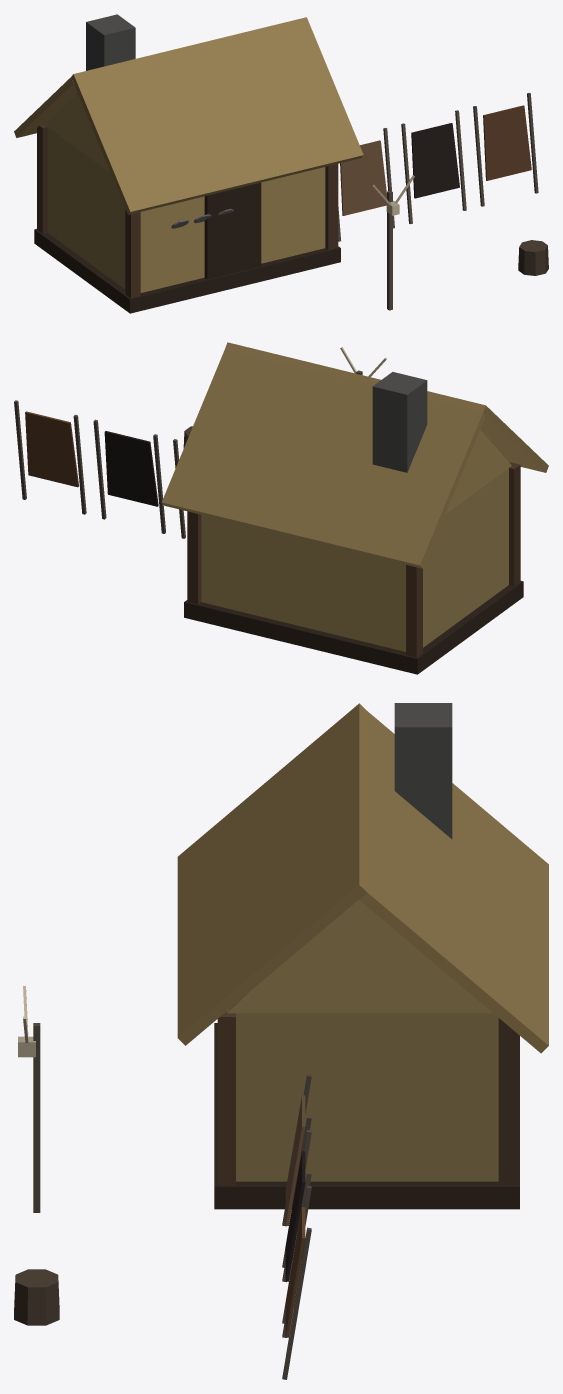
File: walk_tidebound_trapper.glb
3 renders of one model, top to bottom at view 1: azimuth 30°, elevation 25°; view 2: azimuth 150°, elevation 25°; view 3: azimuth 270°, elevation 25°, orthographic. The views are drawn at different scales.
Parts seen in each view (by area): view 1: walk_tidebound_trapper, walk_tidebound_trapper_roof; view 2: walk_tidebound_trapper, walk_tidebound_trapper_roof; view 3: walk_tidebound_trapper, walk_tidebound_trapper_roof.
Boxes of the visible parts, left/top/right/bottom form: walk_tidebound_trapper: left=34, top=92, right=548, bottom=313; walk_tidebound_trapper_roof: left=14, top=14, right=363, bottom=214; walk_tidebound_trapper: left=14, top=347, right=523, bottom=674; walk_tidebound_trapper_roof: left=161, top=342, right=548, bottom=568; walk_tidebound_trapper: left=14, top=899, right=519, bottom=1379; walk_tidebound_trapper_roof: left=177, top=703, right=548, bottom=1053.
Size of what is drawn, in the model's own units: 9.83 by 4.99 by 6.48.
Materials: 2 (2 with a texture image).
